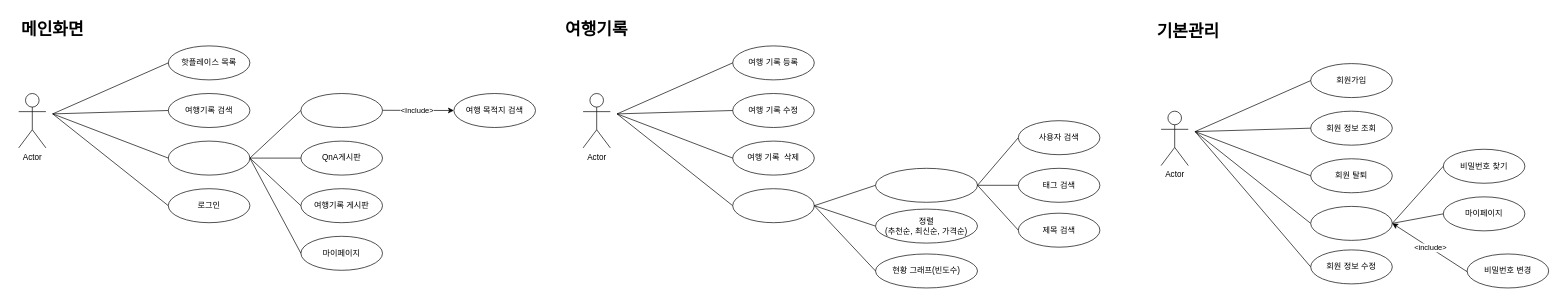
Image size: 1561x300. Some labels were removed from this diagram. The shapes that lost their labels are listed below. From the top down, each one's box as (x1, y1, x2, y2) in pixels, then its label:
(300, 93, 382, 128): 지도
(168, 140, 250, 175): 카테고리 페이지 이동
(875, 168, 978, 202): 검색
(732, 188, 814, 223): 여행 기록 목록
(1310, 206, 1392, 240): 로그인/로그아웃
